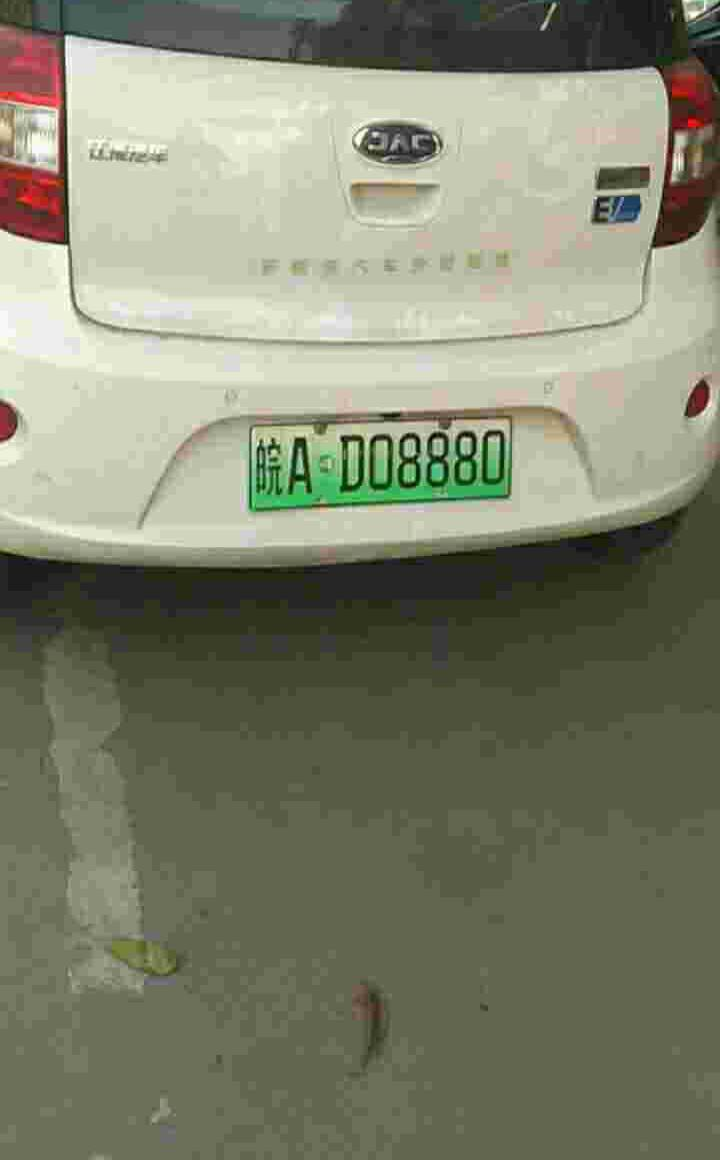car: (244, 421, 513, 502)
